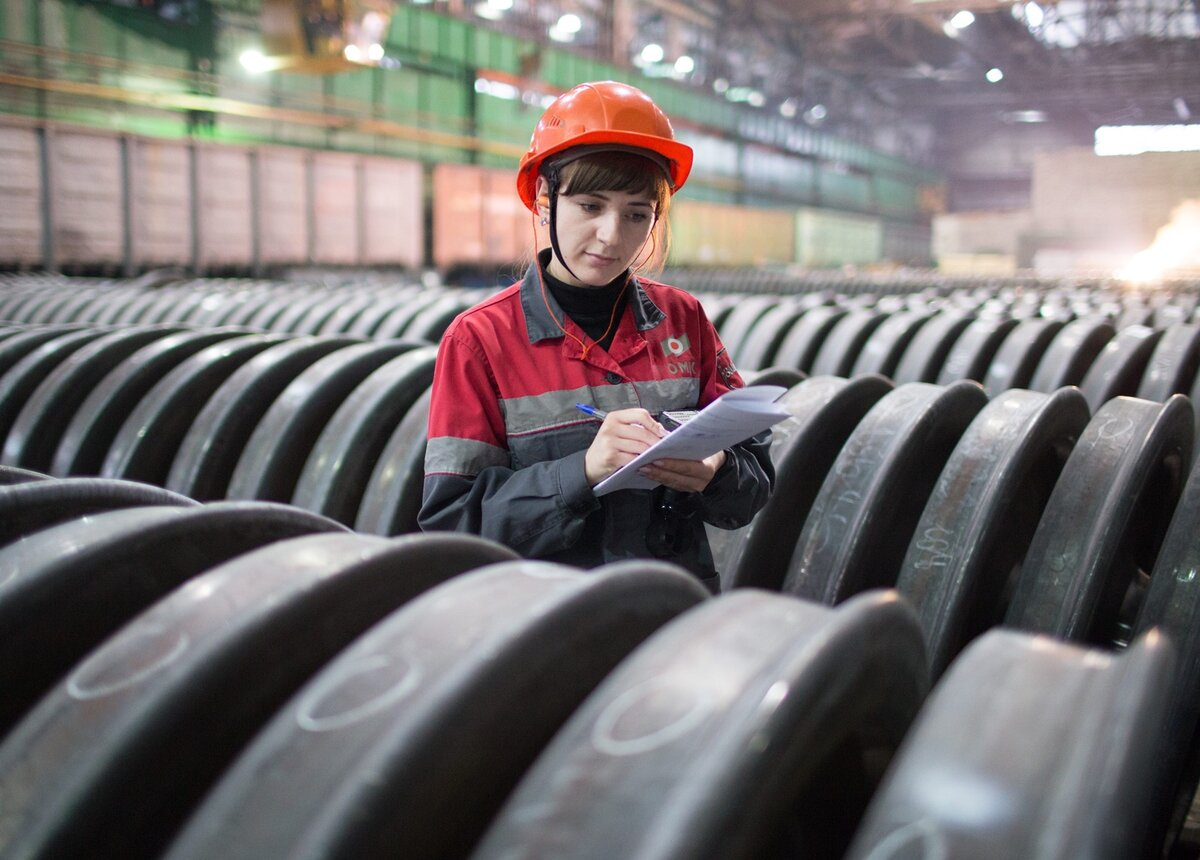person: (417, 79, 776, 594)
